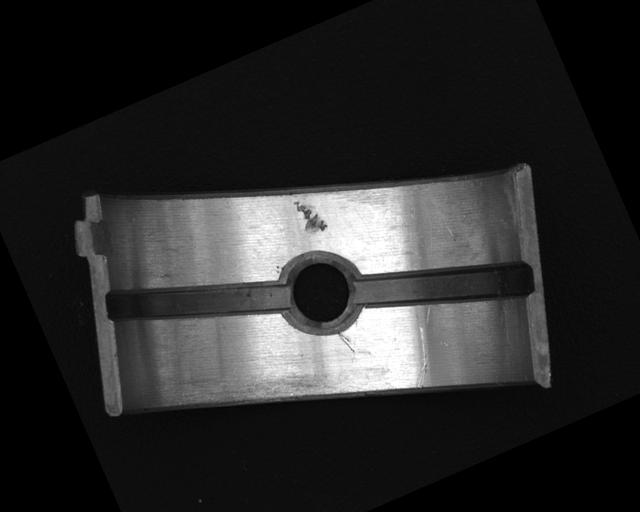bruise: (291, 192, 329, 239)
gap: (102, 228, 291, 373), (350, 217, 538, 357)
hole: (271, 243, 375, 348)
nick: (394, 323, 446, 390), (335, 327, 357, 357)
scratch: (174, 337, 332, 450)
